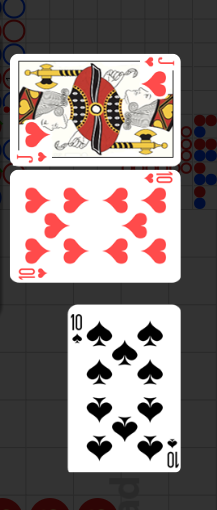10H: (18, 266, 49, 280)
10S: (164, 436, 178, 469)
JH: (143, 55, 175, 68)
